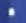Squash-Ball: (0, 1, 26, 23)
